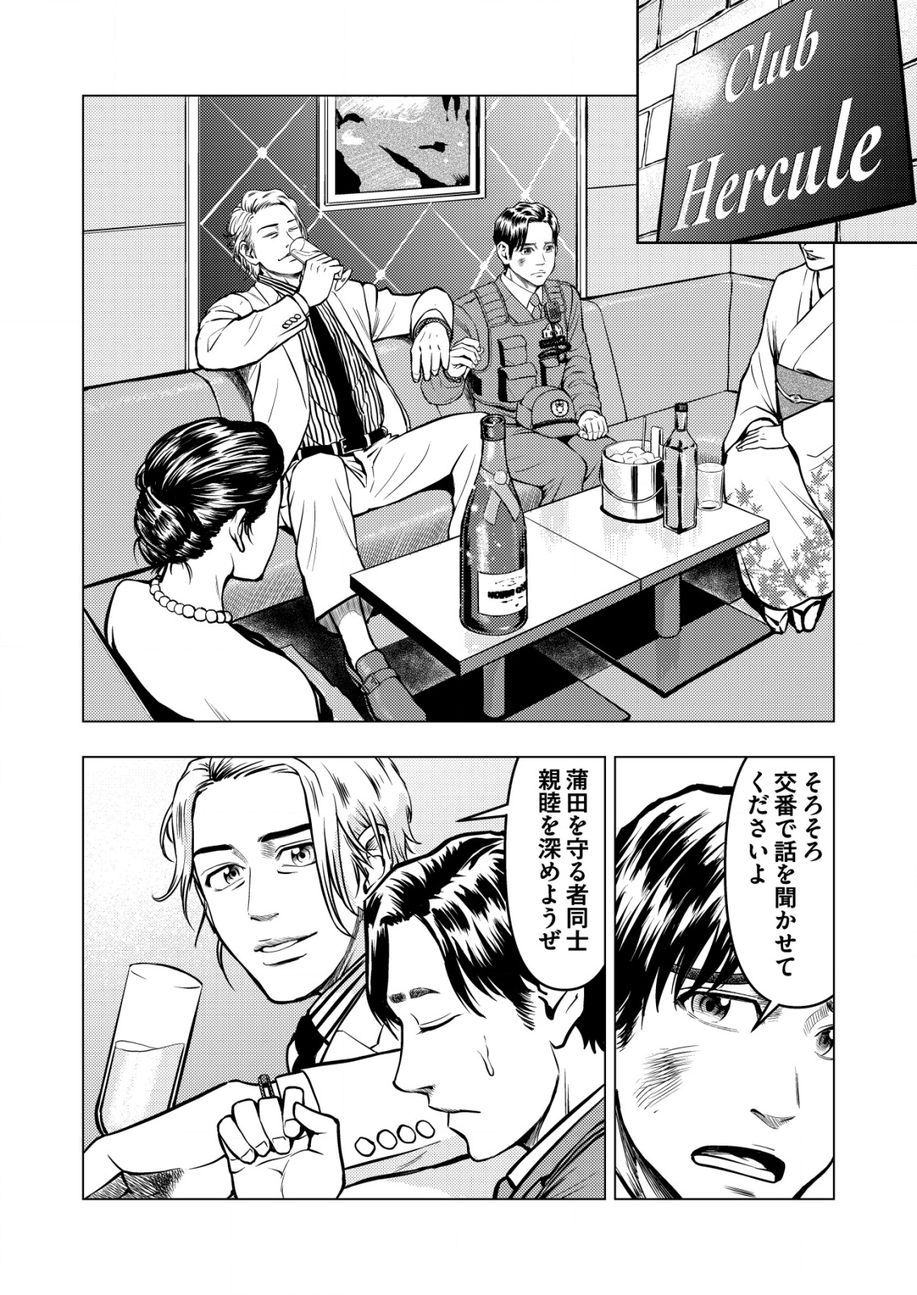bubbles: (456, 753, 607, 1002), (722, 755, 834, 1033)
